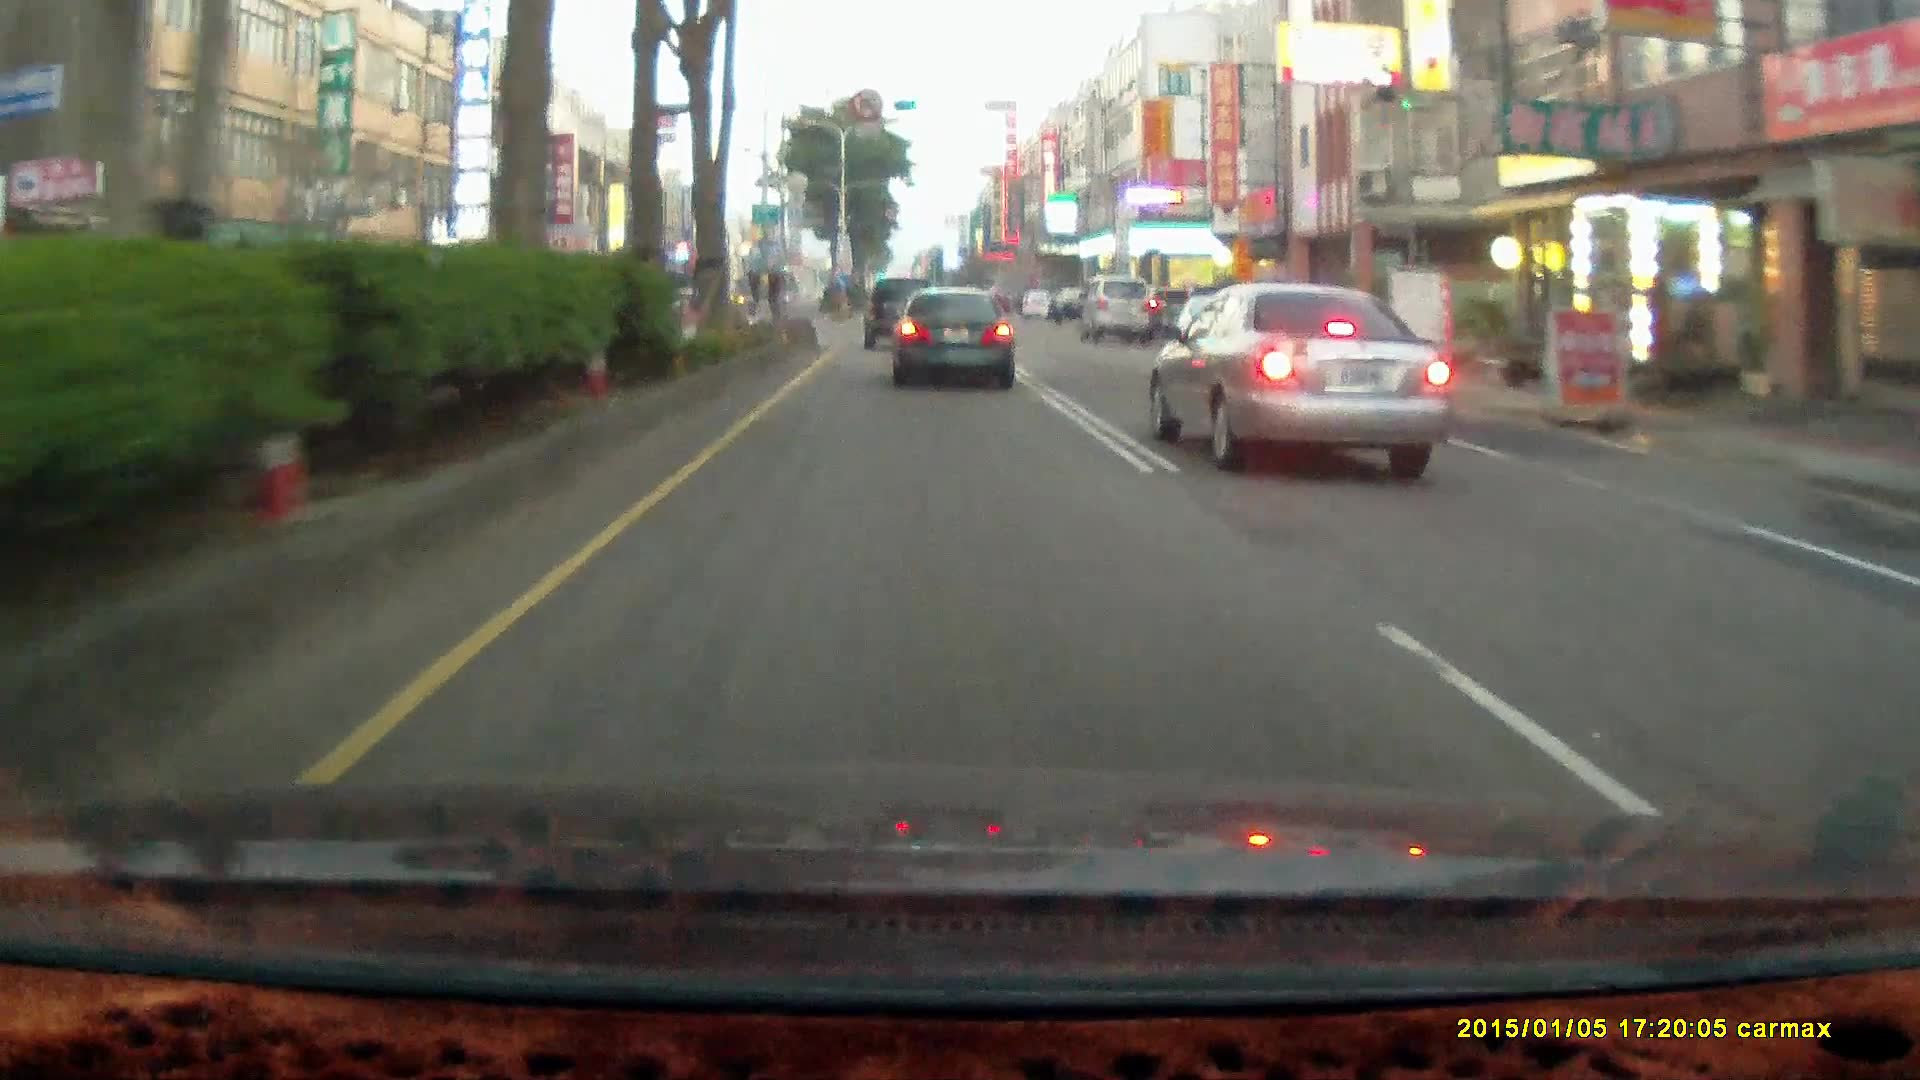vehicle: (1149, 286, 1455, 469), (890, 287, 1021, 396), (891, 286, 1011, 390), (862, 278, 943, 355), (862, 282, 938, 355), (1080, 274, 1155, 342), (1080, 280, 1155, 345), (1048, 284, 1104, 323), (1022, 289, 1052, 316)
